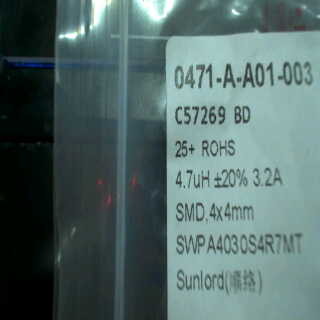4.7uH: (170, 164, 215, 192)
